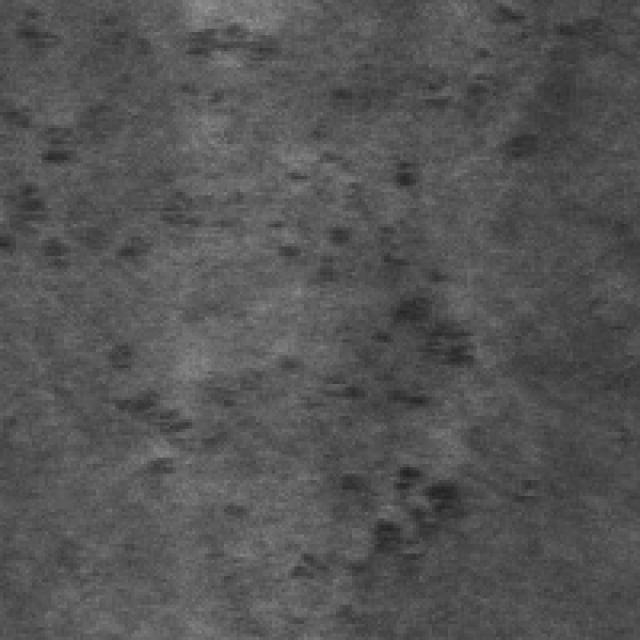rolled-in_scale: (275, 189, 538, 621), (38, 118, 260, 477), (211, 12, 547, 186)
